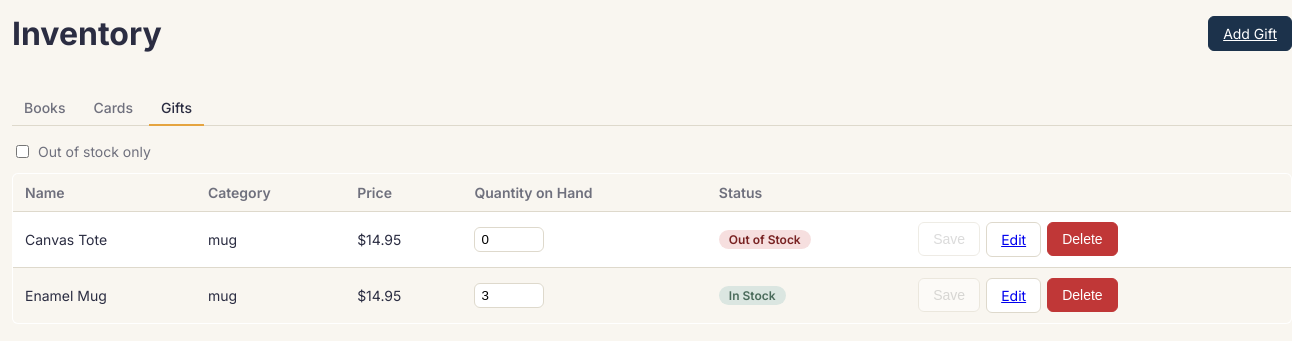
Test: GiftsInventoryPage › deletes a gift after confirming
Click the button "Delete" in the row of "Enamel Mug" at (1082, 295), box x1=1047 y1=278 x2=1118 y2=312
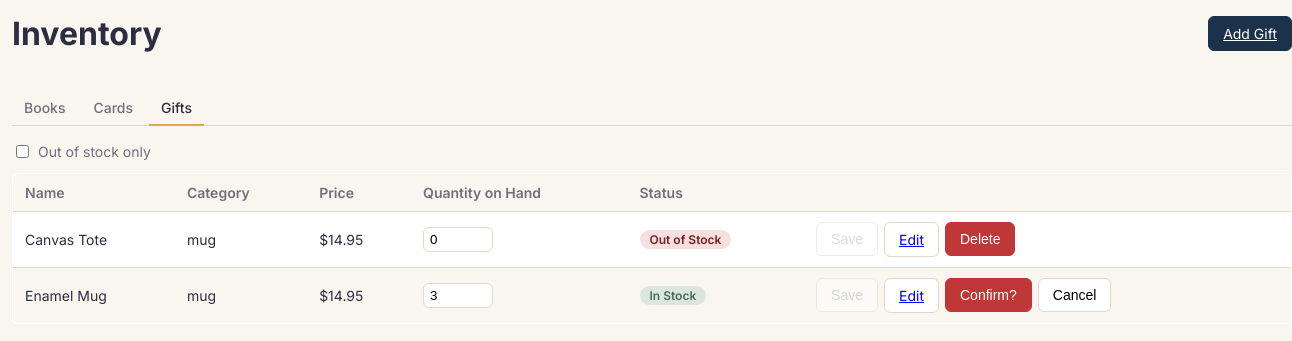
Click the button "Confirm?" at (988, 295), box x1=945 y1=278 x2=1032 y2=312
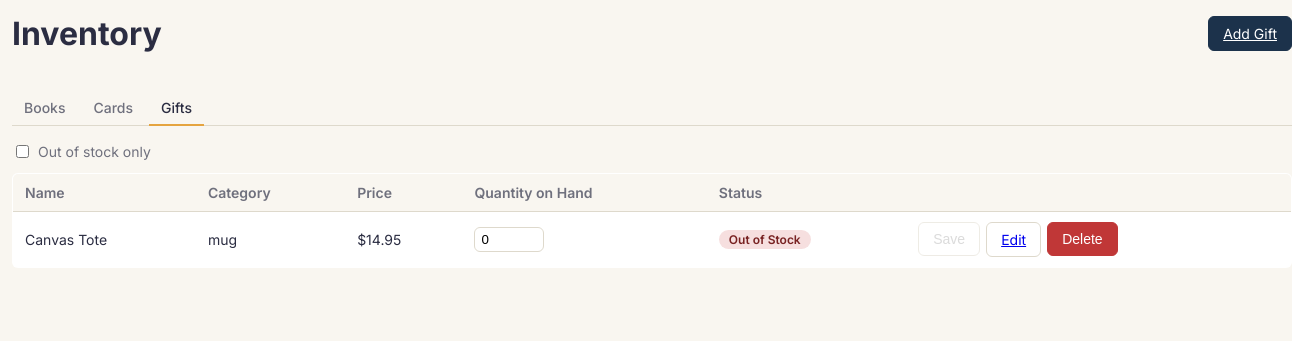
Expected: the text "Enamel Mug" is gone
